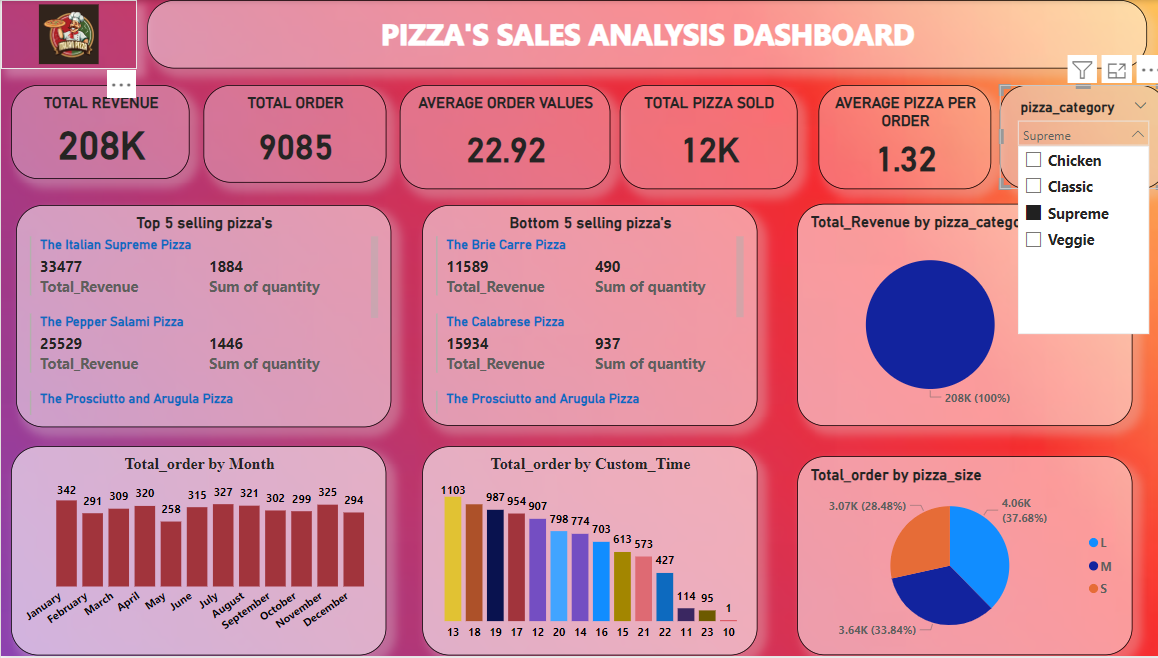

The dashboard page shown, as its layout file describes it:
{"tool":"powerbi","page":{"name":"Page 2","canvas":[1280,720],"ordinal":0},"visuals":[{"type":"card","title":"TOTAL REVENUE","fields":{"Values":["pizza_sales (2).Total_Revenue"]},"box":[11.1,93.3,196.3,103],"z":0},{"type":"card","title":"TOTAL ORDER","fields":{"Values":["pizza_sales (2).Total_order"]},"box":[222.8,93.3,200.5,107.2],"z":1000},{"type":"card","title":"AVERAGE ORDER VALUES","fields":{"Values":["pizza_sales (2).Average_order_values"]},"box":[437.2,93.3,231.2,114.2],"z":2000},{"type":"card","title":"TOTAL PIZZA SOLD","fields":{"Values":["pizza_sales (2).Total_pizza_sold"]},"box":[679.5,93.3,195,114.2],"z":3000},{"type":"card","title":"AVERAGE PIZZA PER ORDER","fields":{"Values":["pizza_sales (2).Average_pizzas_per_order"]},"box":[896.8,93.3,189.4,114.2],"z":4000},{"type":"textbox","box":[160.1,0,1097.3,75.2],"z":5000},{"type":"image","box":[0,0,149,75.2],"z":6000},{"type":"slicer","fields":{"Values":["pizza_sales (2).pizza_category"]},"box":[1095.9,93.3,183.8,114.2],"z":7000},{"type":"columnChart","fields":{"Category":["pizza_sales (2).order_date.Variation.Date Hierarchy.Month"],"Y":["pizza_sales (2).Total_order"]},"box":[11.1,490.2,412.2,229.8],"z":8000},{"type":"pieChart","fields":{"Category":["pizza_sales (2).pizza_category"],"Y":["pizza_sales (2).Total_Revenue"]},"box":[874.5,224.2,367.6,243.7],"z":9000},{"type":"multiRowCard","title":"Bottom 5 selling pizza''s","fields":{"Values":["pizza_sales (2).pizza_name","pizza_sales (2).Total_Revenue","Sum(pizza_sales (2).quantity)"]},"box":[462.3,225.6,367.6,242.3],"z":10000},{"type":"multiRowCard","title":"Top 5 selling pizza''s","fields":{"Values":["pizza_sales (2).pizza_name","pizza_sales (2).Total_Revenue","Sum(pizza_sales (2).quantity)"]},"box":[16.7,225.6,412.2,243.7],"z":11000},{"type":"pieChart","fields":{"Category":["pizza_sales (2).pizza_size"],"Y":["pizza_sales (2).Total_order"]},"box":[874.5,501.3,367.6,218.6],"z":12000},{"type":"columnChart","fields":{"Category":["pizza_sales (2).Custom_Time"],"Y":["pizza_sales (2).Total_order"]},"box":[462.3,490.2,367.6,229.8],"z":13000}]}

Visuals, with their boxes in screenshot pixels (x1, y1, x2, y2), scaled from the page's 1280x720 canvas onto the 1158x658 screenshot:
"TOTAL REVENUE" card: left=10, top=85, right=188, bottom=179
"TOTAL ORDER" card: left=202, top=85, right=383, bottom=183
"AVERAGE ORDER VALUES" card: left=396, top=85, right=605, bottom=190
"TOTAL PIZZA SOLD" card: left=615, top=85, right=791, bottom=190
"AVERAGE PIZZA PER ORDER" card: left=811, top=85, right=983, bottom=190
textbox: left=145, top=0, right=1138, bottom=69
image: left=0, top=0, right=135, bottom=69
slicer - pizza_sales (2).pizza_category: left=991, top=85, right=1157, bottom=190
columnChart - pizza_sales (2).order_date.Variation.Date Hierarchy.Month x pizza_sales (2).Total_order: left=10, top=448, right=383, bottom=657
pieChart - pizza_sales (2).pizza_category x pizza_sales (2).Total_Revenue: left=791, top=205, right=1124, bottom=428
"Bottom 5 selling pizza''s" multiRowCard: left=418, top=206, right=751, bottom=428
"Top 5 selling pizza''s" multiRowCard: left=15, top=206, right=388, bottom=429
pieChart - pizza_sales (2).pizza_size x pizza_sales (2).Total_order: left=791, top=458, right=1124, bottom=657
columnChart - pizza_sales (2).Custom_Time x pizza_sales (2).Total_order: left=418, top=448, right=751, bottom=657
